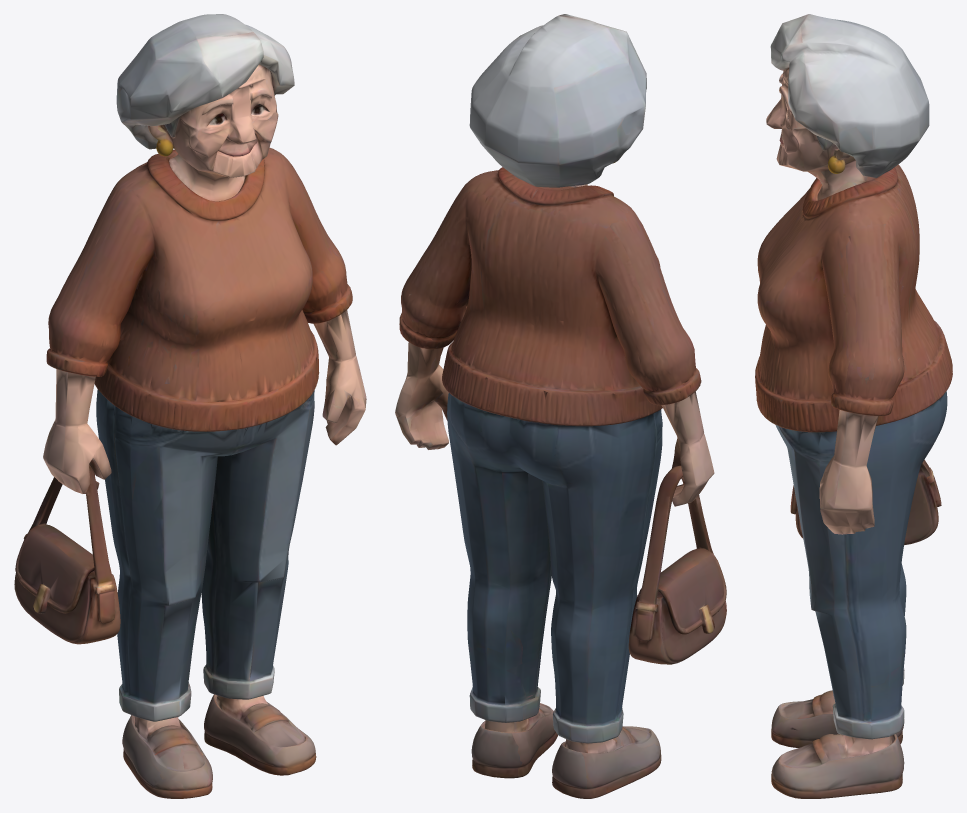
File: 50to70_Female.glb
3 renders of one model, left to right at view 1: azimuth 30°, elevation 25°; view 2: azimuth 150°, elevation 25°; view 3: azimuth 270°, elevation 25°, orthographic.
Parts seen in each view (by area): view 1: node_0; view 2: node_0; view 3: node_0.
Part boxes in pixels (x1,y1,x2,y2): node_0: [14, 14, 366, 798]; node_0: [395, 14, 726, 798]; node_0: [755, 14, 952, 798].
Size of the model in its own units: 0.5214 by 1.16 by 0.2839.
1 material, 1 textured.
